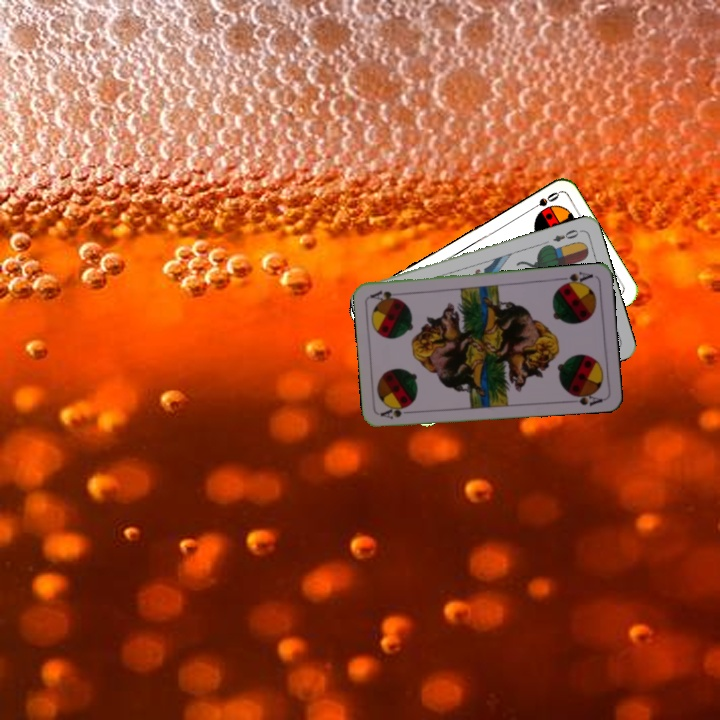EO: (549, 225, 581, 244)
SA: (556, 268, 596, 289), (377, 402, 417, 422)
SO: (524, 188, 562, 214)
